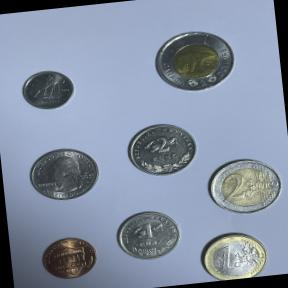coin: (148, 24, 242, 101), (202, 151, 288, 221), (120, 118, 204, 184), (23, 140, 104, 207), (196, 225, 272, 282), (36, 232, 104, 285), (18, 65, 82, 116)
